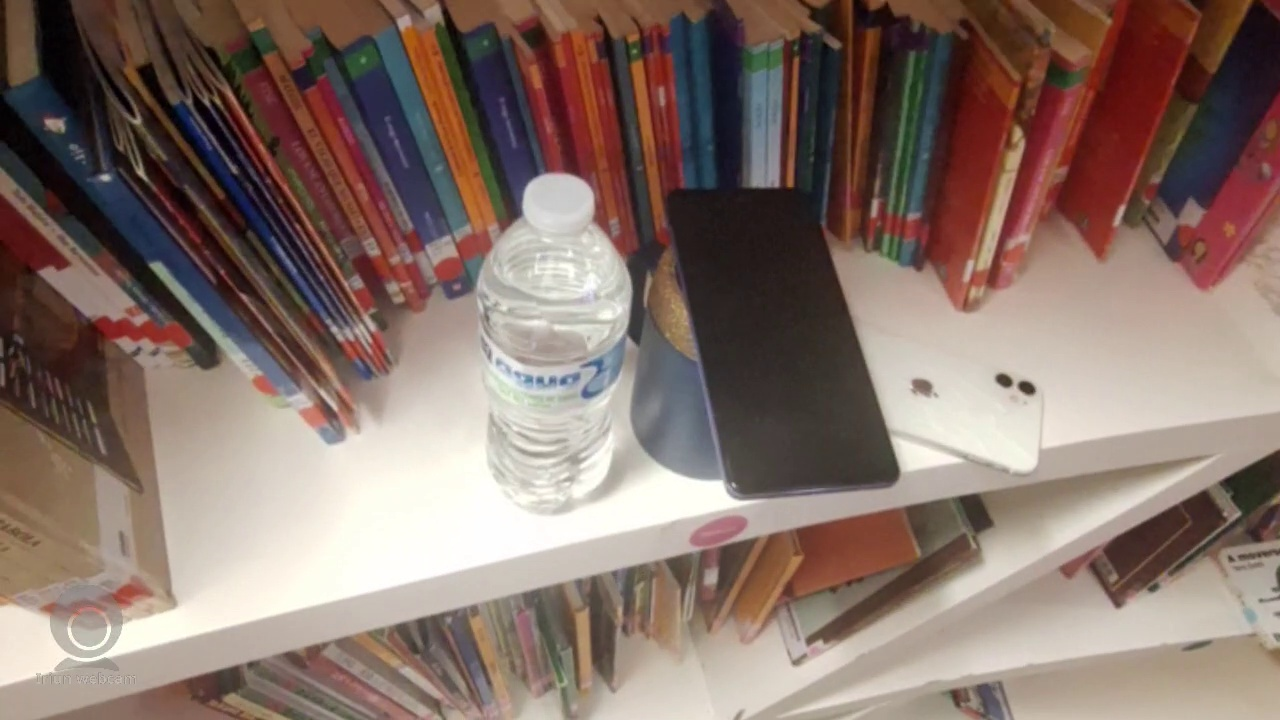botella: (475, 172, 633, 516)
